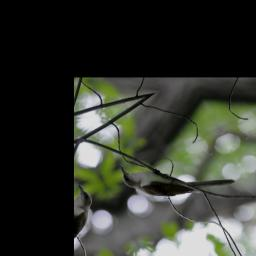Cuckoo: (115, 129, 239, 224)
